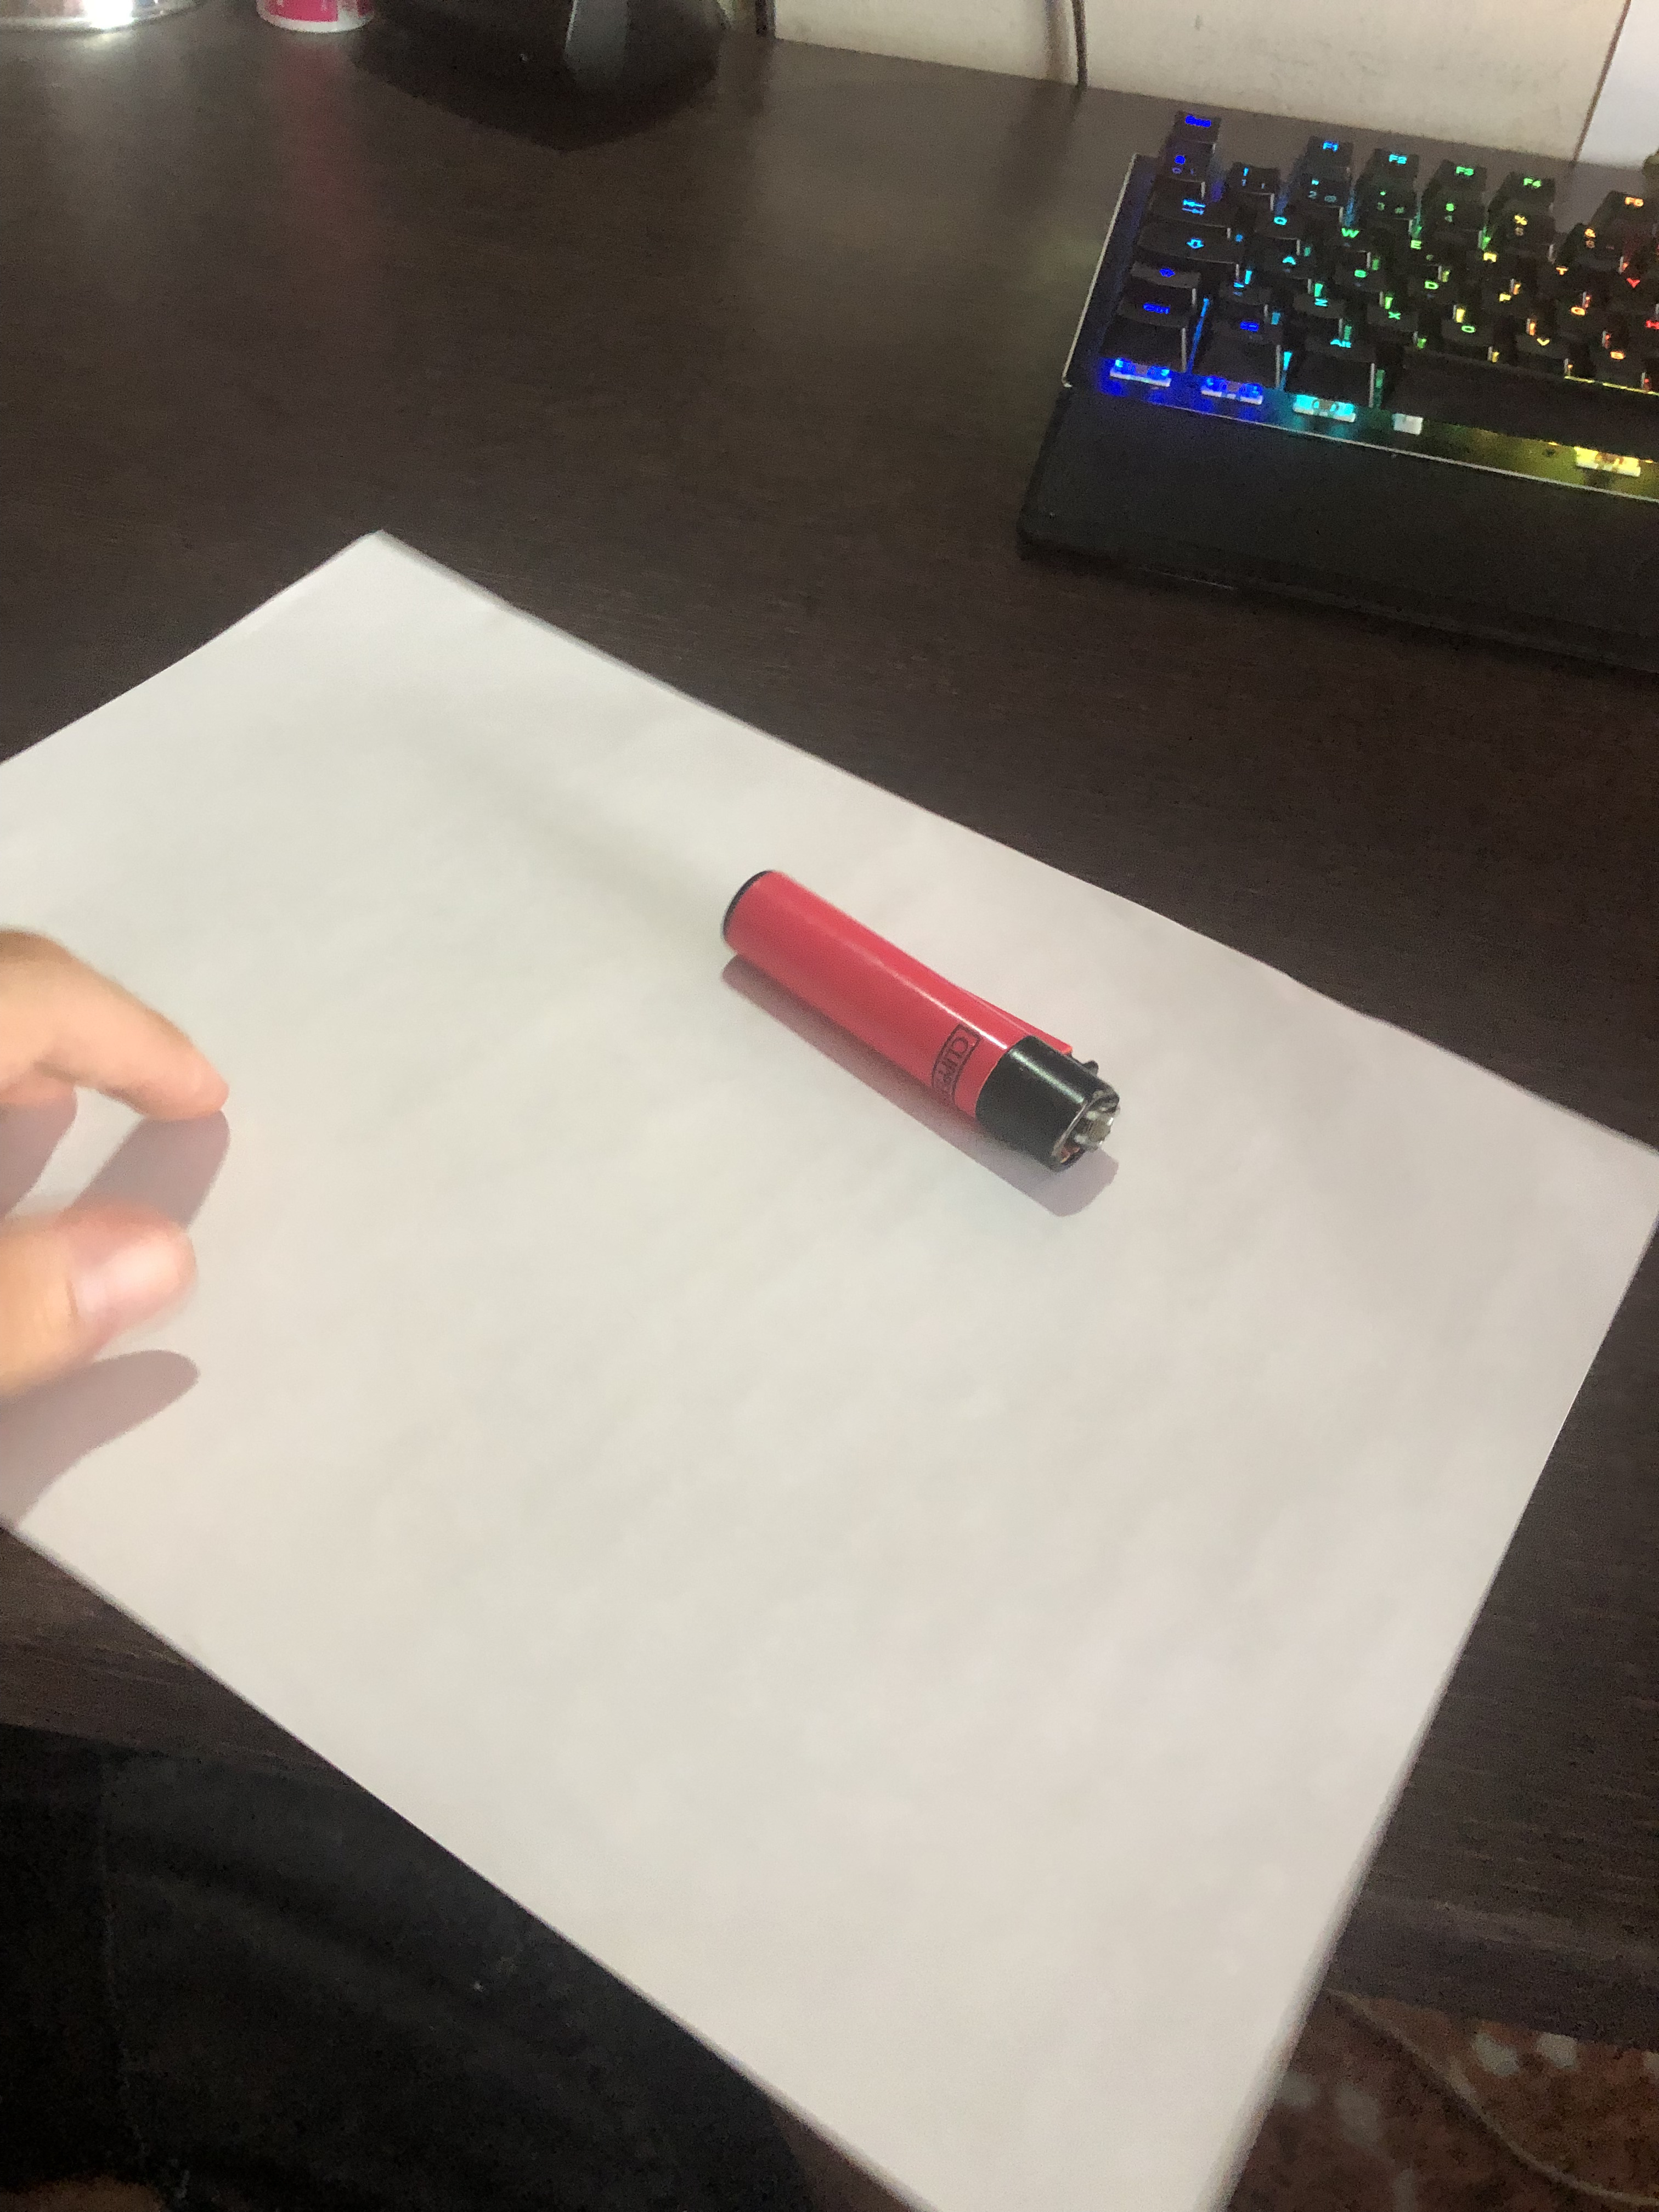Mechero: (711, 883, 1150, 1193)
